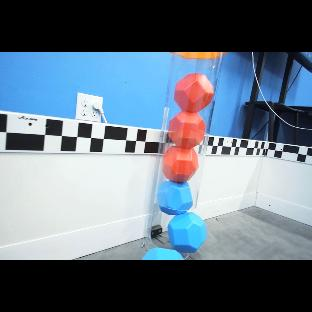V5_BLUE: (142, 181, 206, 260), (170, 215, 206, 253), (160, 180, 195, 214)
V5_RED: (163, 73, 214, 182)
